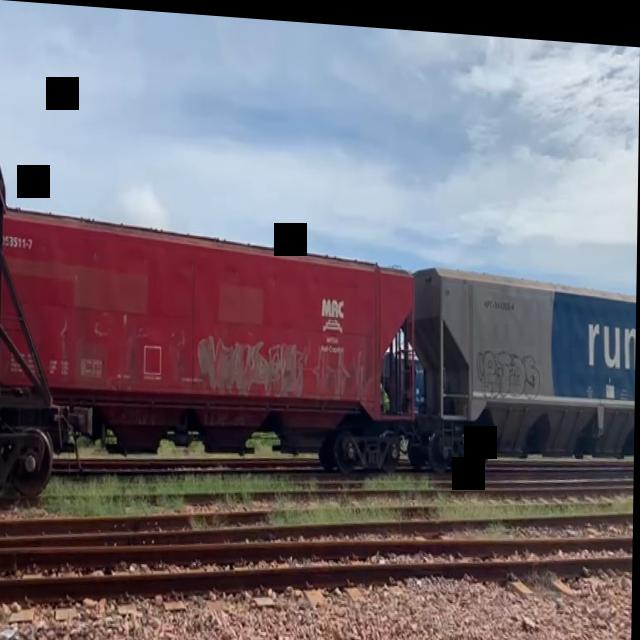hopper: (0, 175, 419, 468), (414, 251, 637, 478)
